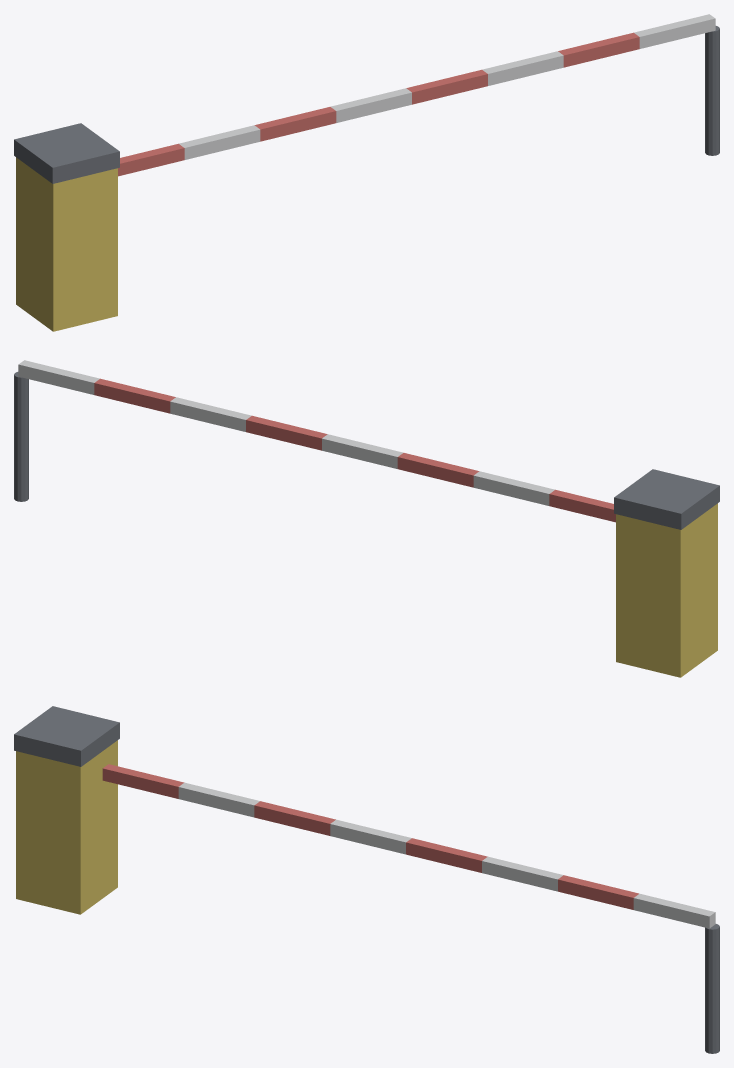
File: barrier.glb
3 renders of one model, top to bottom at view 1: azimuth 30°, elevation 25°; view 2: azimuth 150°, elevation 25°; view 3: azimuth 330°, elevation 25°, orthographic.
Parts seen in each view (by area): view 1: barrier; view 2: barrier; view 3: barrier.
Part boxes in pixels (x1=…): barrier: x1=14, y1=14, x2=719, y2=331; barrier: x1=14, y1=360, x2=719, y2=677; barrier: x1=14, y1=706, x2=719, y2=1053.
Size of the model in its own units: 5.31 by 1.22 by 0.52.
